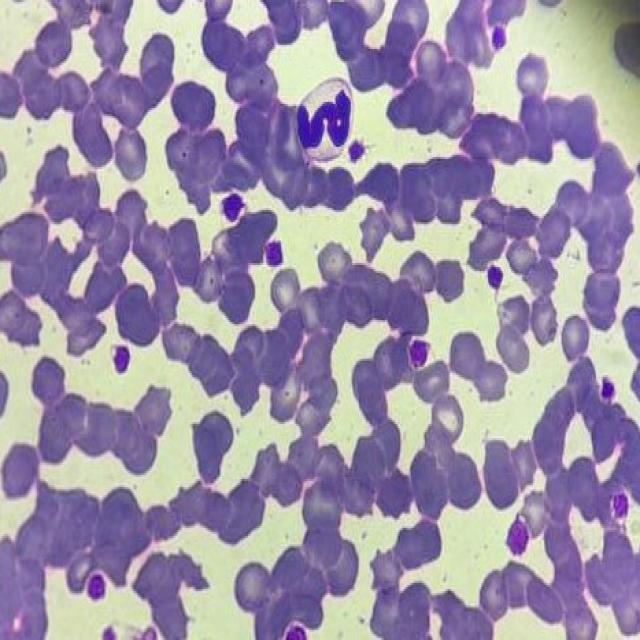Neutrofilo: (293, 77, 356, 158)
